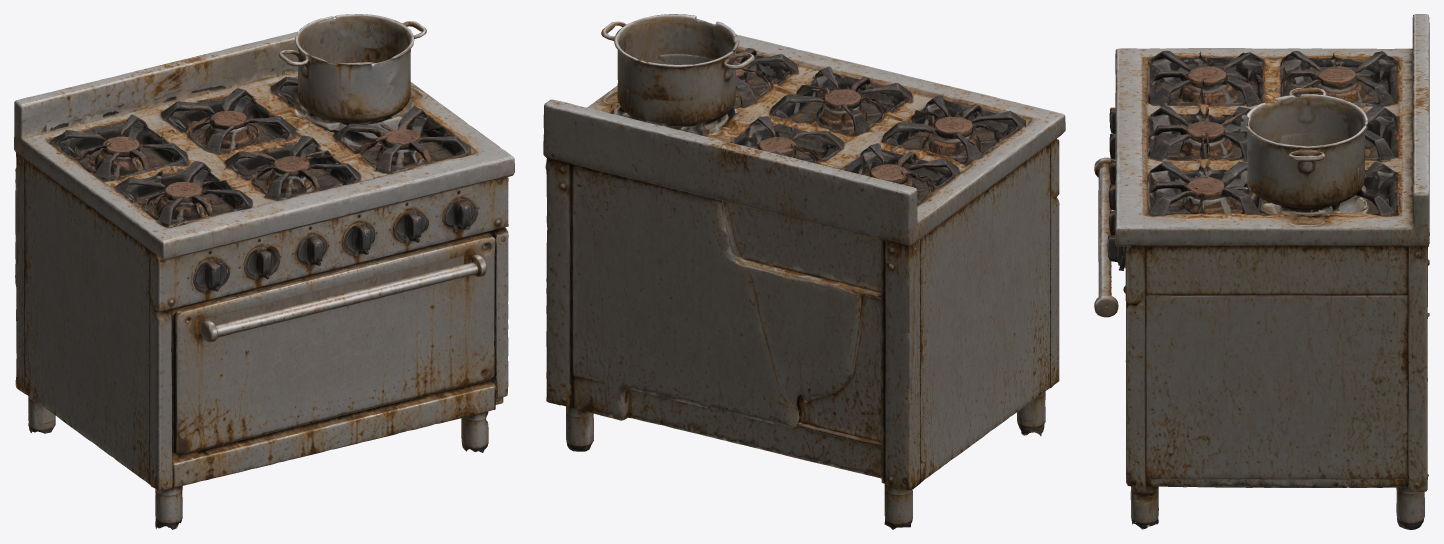
Rendered from KitchenStove.fbx.
3 renders of one model, left to right at view 1: azimuth 30°, elevation 25°; view 2: azimuth 150°, elevation 25°; view 3: azimuth 270°, elevation 25°, orthographic. The views are drawn at different scales.
Visible parts, largest first — view 1: texture_mapping; view 2: texture_mapping; view 3: texture_mapping.
Boxes of the visible parts, bbox=[...] form: texture_mapping: bbox=[14, 14, 514, 529]; texture_mapping: bbox=[543, 14, 1065, 529]; texture_mapping: bbox=[1094, 14, 1429, 529].
Size of the model in its own units: 0.9996 by 0.787 by 0.9998.
1 material, 1 textured.
